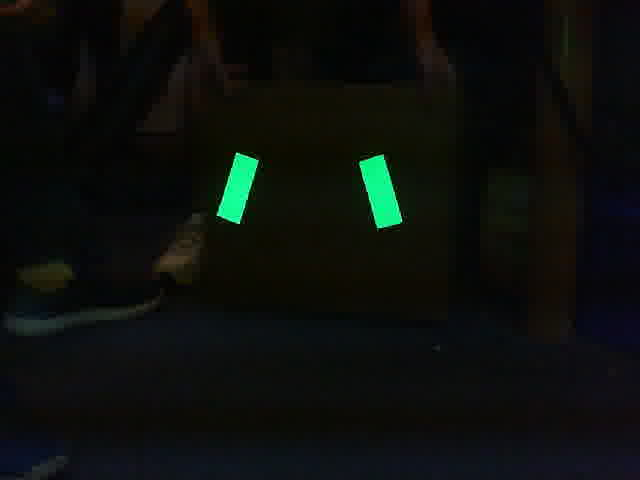target: (216, 154, 404, 232)
